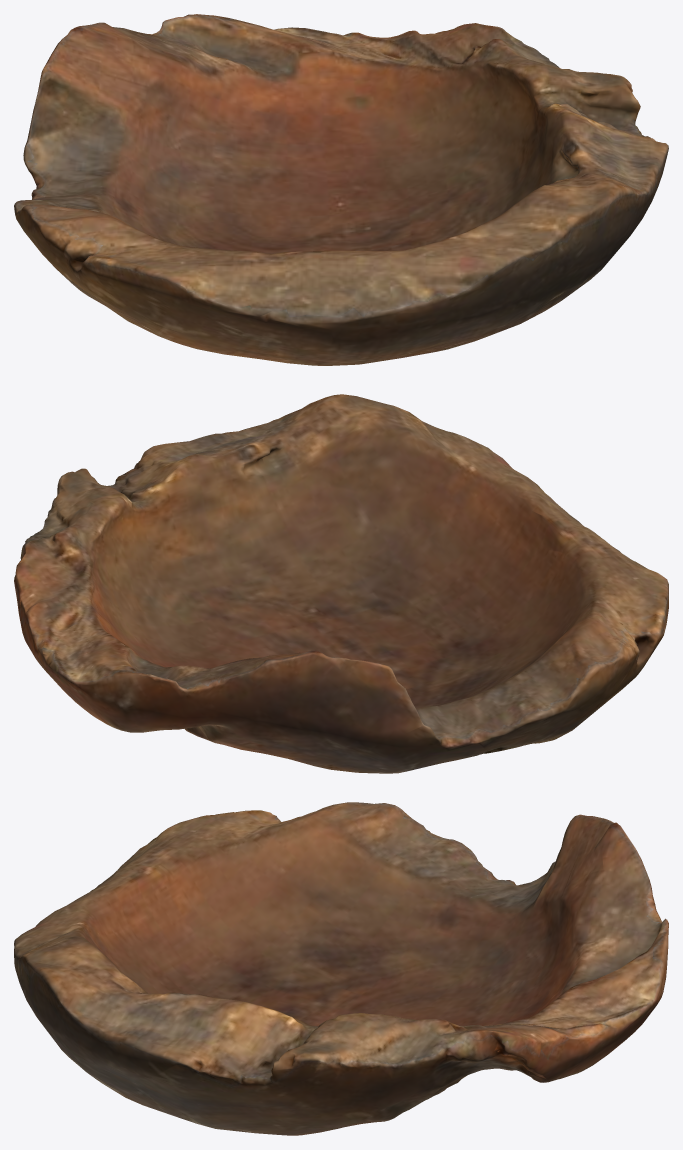
The model's file is wooden_bowl_01.glb.
3 renders of one model, top to bottom at view 1: azimuth 30°, elevation 25°; view 2: azimuth 150°, elevation 25°; view 3: azimuth 270°, elevation 25°, orthographic. The views are drawn at different scales.
Parts seen in each view (by area): view 1: wooden_bowl_01; view 2: wooden_bowl_01; view 3: wooden_bowl_01.
Boxes of the visible parts, x1,y1,x2,y2 form: wooden_bowl_01: [14, 14, 668, 365]; wooden_bowl_01: [14, 394, 668, 773]; wooden_bowl_01: [14, 802, 668, 1135].
Bounding box in the file's own units: 0.3131 × 0.0937 × 0.3091.
Materials: 1 (1 with a texture image).
